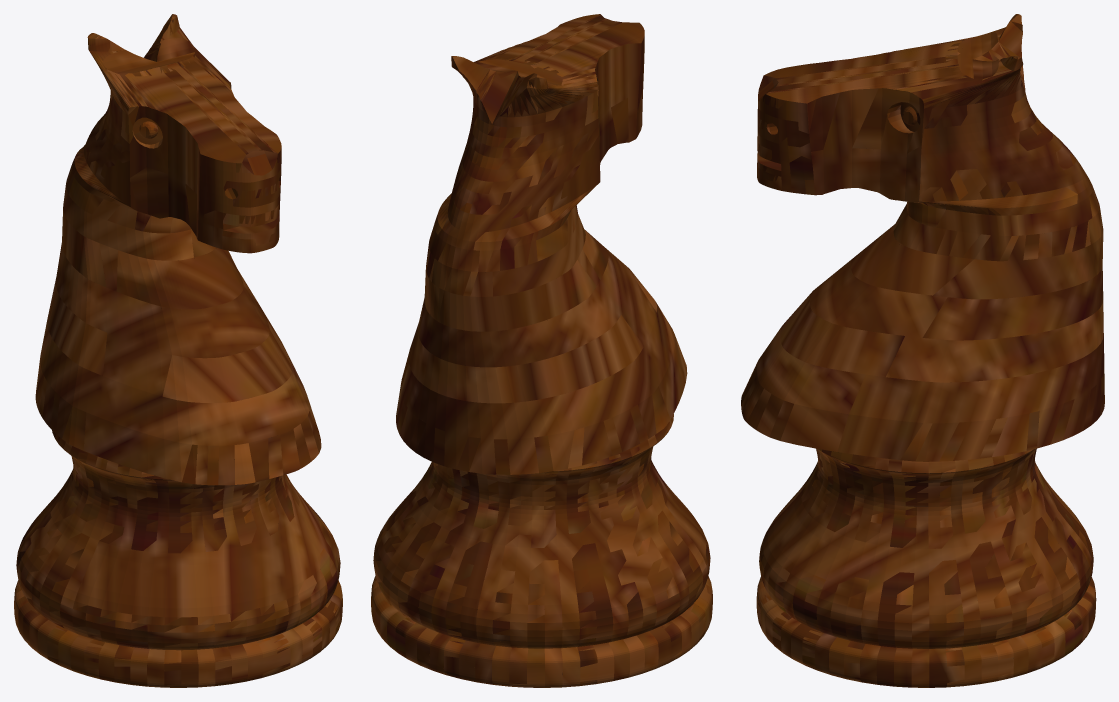
The model's file is knight_2.obj.
The picture shows the model from 3 angles, left to right: view 1: azimuth 30°, elevation 25°; view 2: azimuth 150°, elevation 25°; view 3: azimuth 270°, elevation 25°; orthographic projection. The views are drawn at different scales.
Visible parts, largest first — view 1: Object02; view 2: Object02; view 3: Object02.
Boxes of the visible parts, x1,y1,x2,y2 form: Object02: [14, 14, 342, 687]; Object02: [371, 14, 712, 687]; Object02: [741, 14, 1104, 687].
Size of the model in its own units: 86.61 by 165 by 92.84.
Materials: 1 (1 with a texture image).
